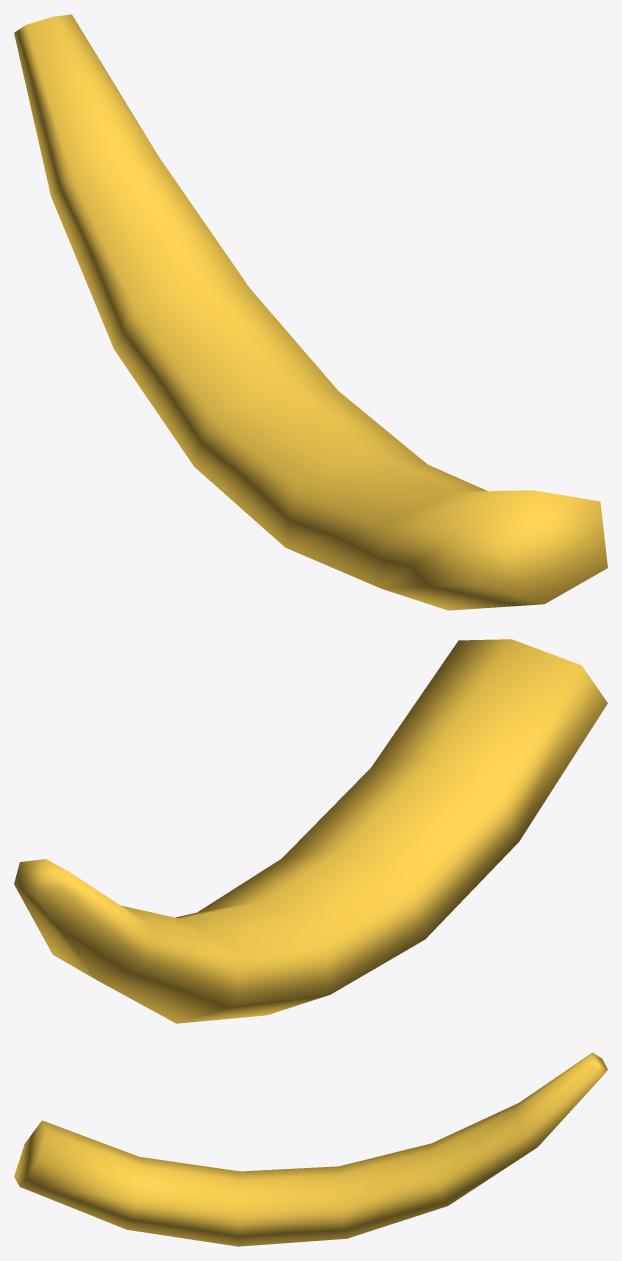
File: rat tooth.fbx
3 renders of one model, top to bottom at view 1: azimuth 30°, elevation 25°; view 2: azimuth 150°, elevation 25°; view 3: azimuth 270°, elevation 25°, orthographic. The views are drawn at different scales.
Parts seen in each view (by area): view 1: rat tooth; view 2: rat tooth; view 3: rat tooth.
Boxes of the visible parts, box(x1,y1,x2,y2) form: rat tooth: box(14, 14, 607, 610); rat tooth: box(14, 639, 607, 1023); rat tooth: box(14, 1052, 607, 1246).
Bounding box in the file's own units: 65.72 × 141 × 412.
